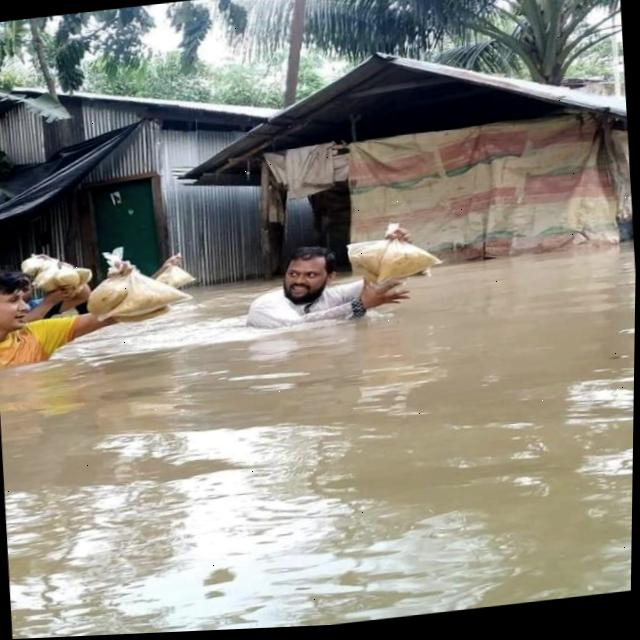civilian: (231, 223, 424, 359), (0, 246, 198, 378)
